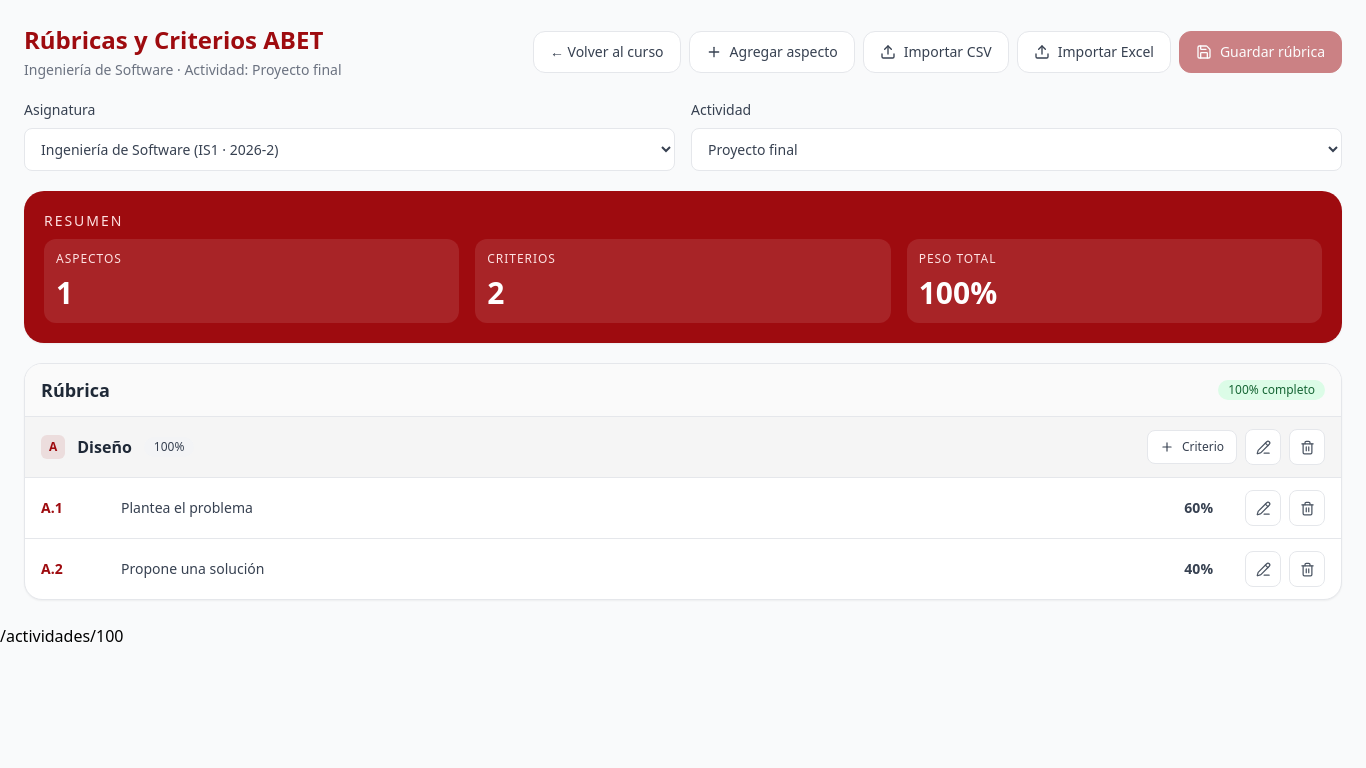
Test: RubricaPage — editar el borrador › editar un criterio y renombrar un aspecto actualizan el borrador
Check: the button named "Eliminar Diseño" is shown, box [1289,429,1325,465]
Click the button named "Editar Plantea el problema".
click(1263, 508)  # box [1245,490,1281,526]
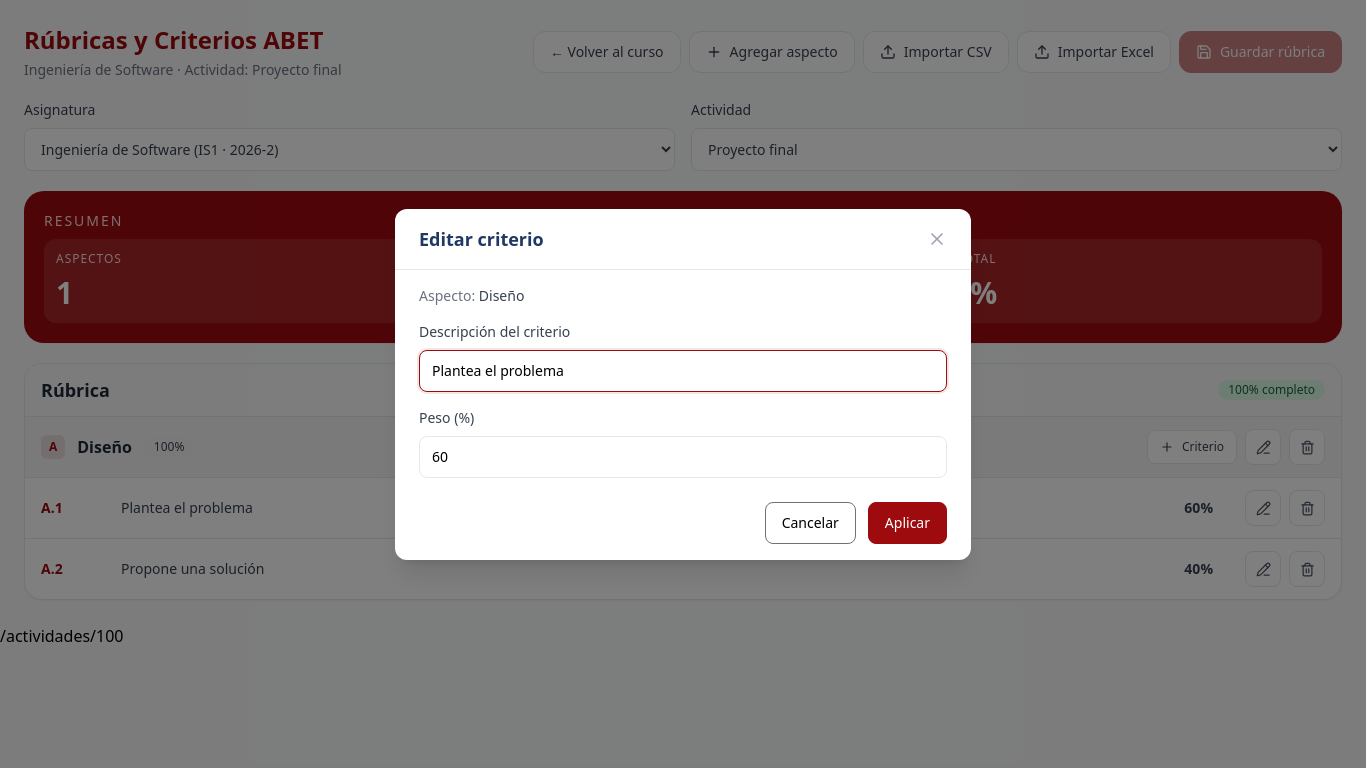
Check: the number field with placeholder "20" holds "60", box [419,436,947,478]
Replace the text in the field with placeholder "Identifica y formula" with "Define el problema" at (683, 370), box [419,350,947,392]
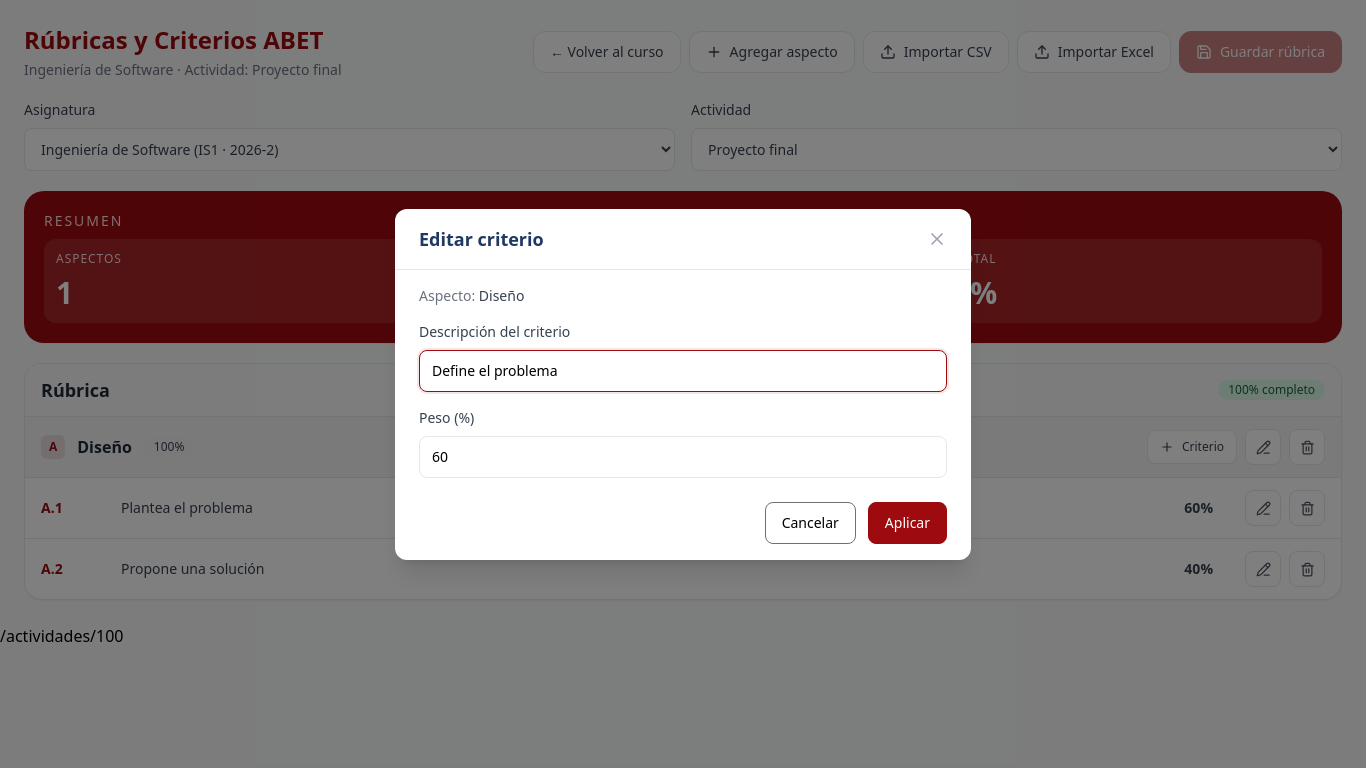
Click the button "Aplicar".
click(907, 522)  # box [868,502,947,544]
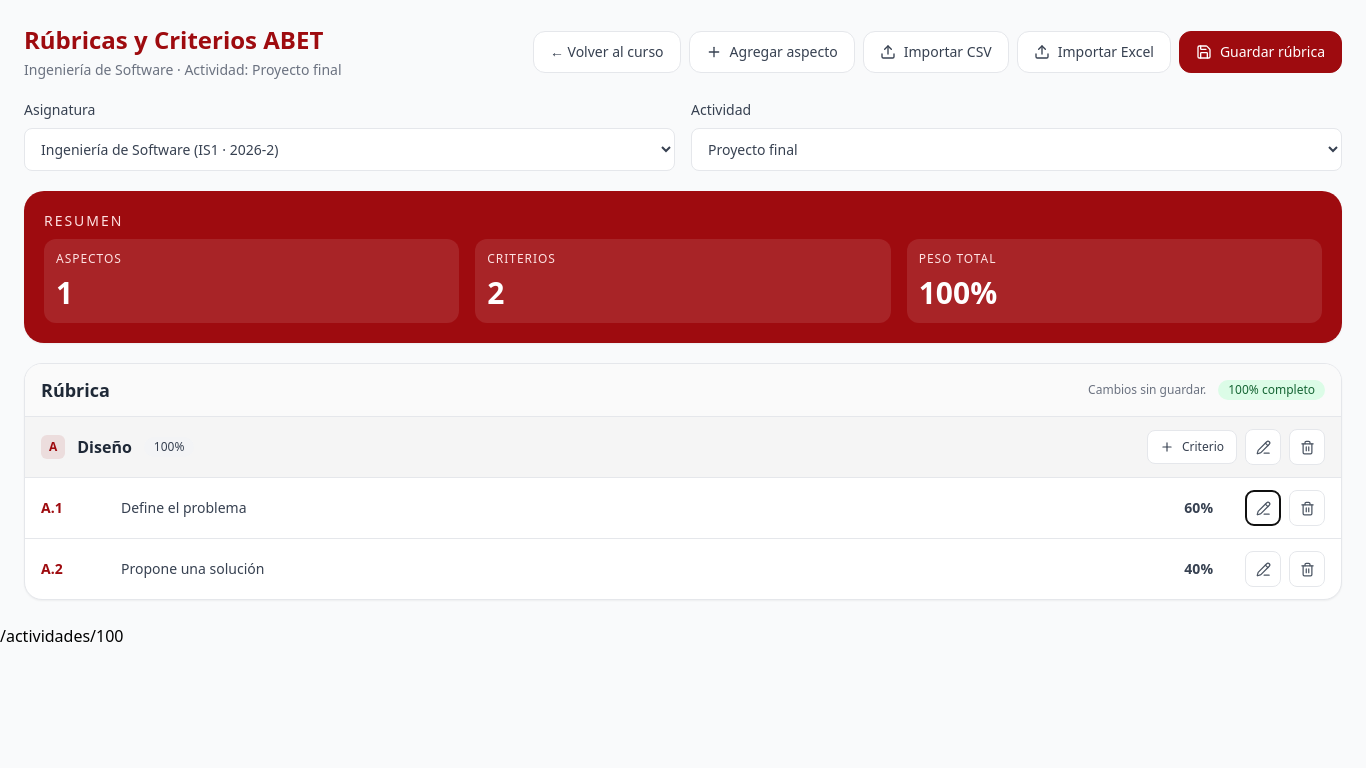
Check: the text "Define el problema" is shown, box [105,478,1133,538]
Click the button named "Editar Diseño".
click(1263, 447)  # box [1245,429,1281,465]
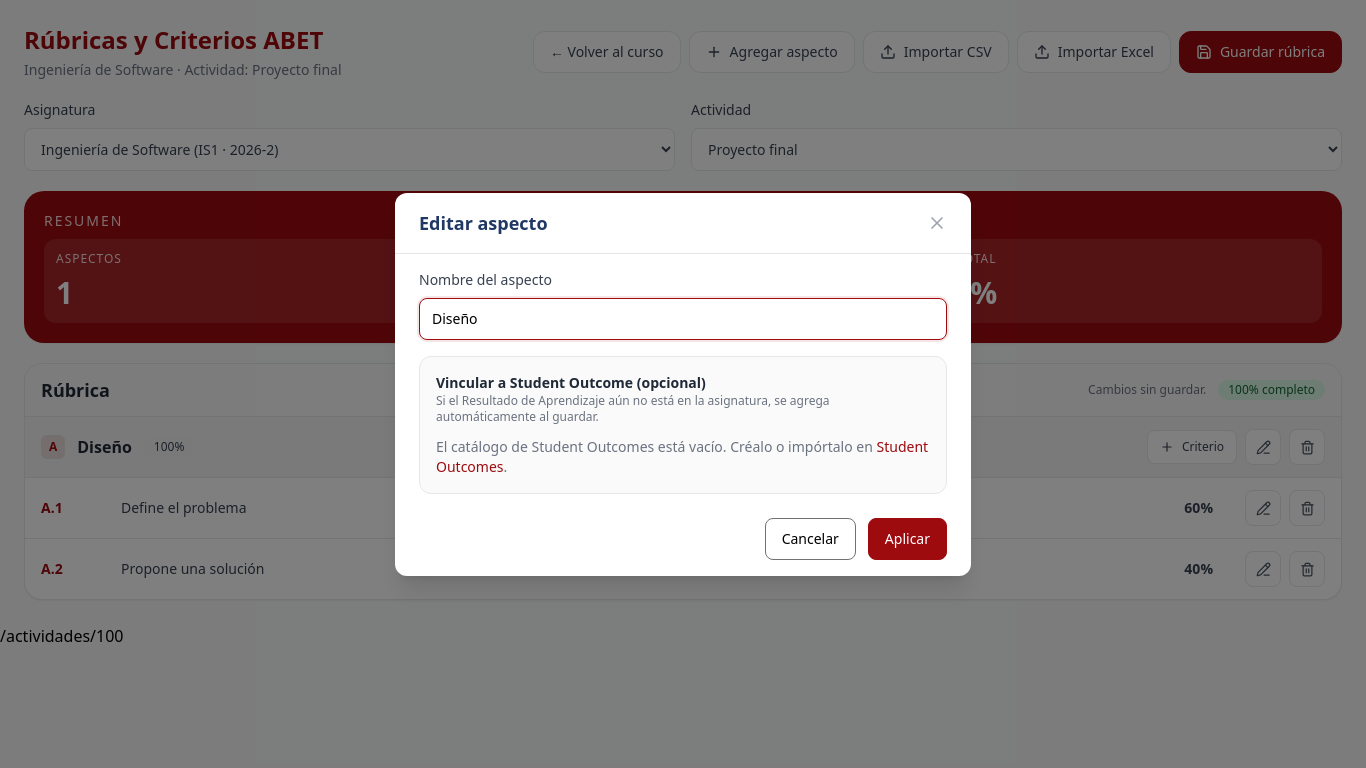
Replace the text in the field with placeholder "Ej: Identificación del problema" with "Análisis" at (683, 318), box [419,298,947,340]
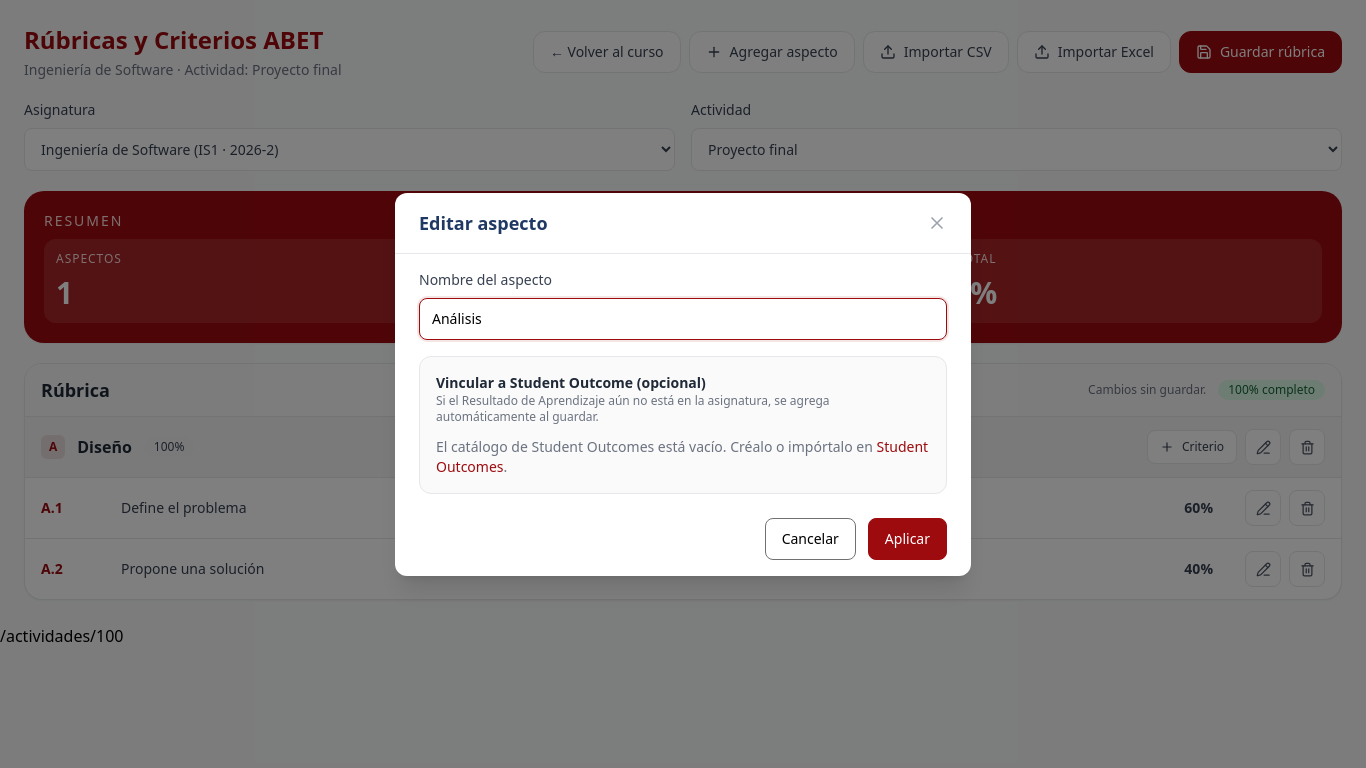
Click the button "Aplicar".
click(907, 538)  # box [868,518,947,560]
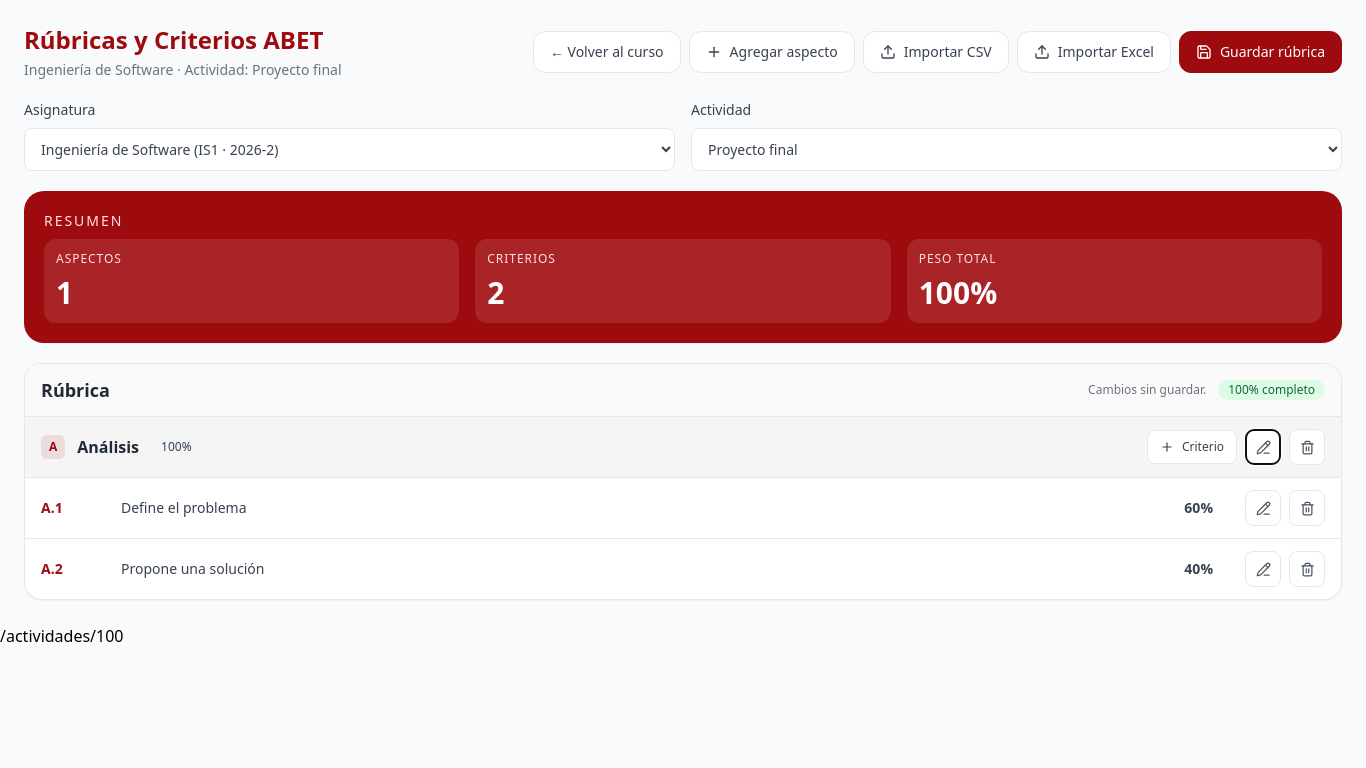
Check: the text "Cambios sin guardar." is shown, box [1088,382,1206,398]
Check: the button "Guardar rúbrica" is enabled, box [1179,31,1342,73]
Check: the button named "Eliminar Análisis" is shown, box [1289,429,1325,465]
